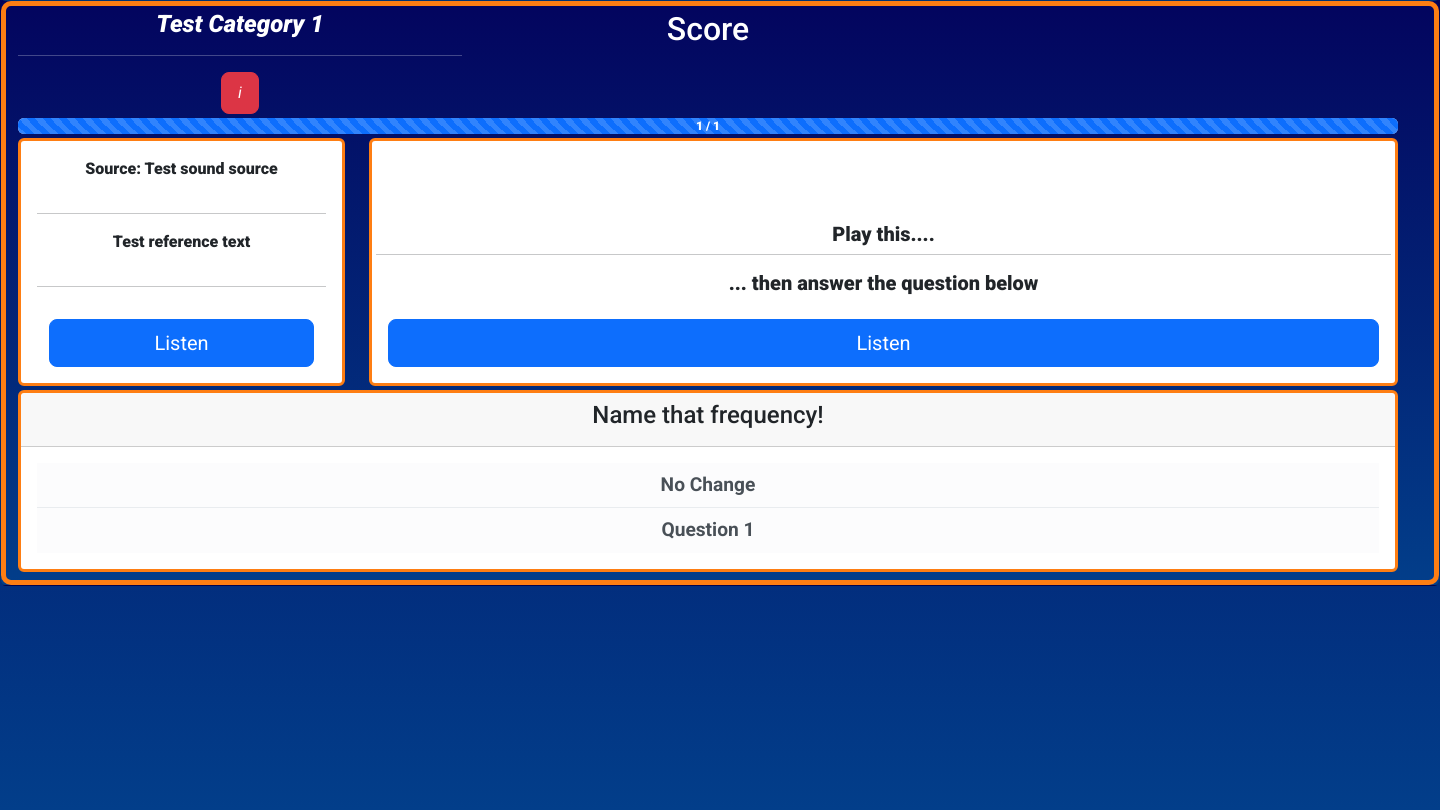
Test: Quiz Component › toggles quiz information modal
The image size is (1440, 810).
Step 1. Click the button "i" → (240, 93), box 221,72 -> 259,114
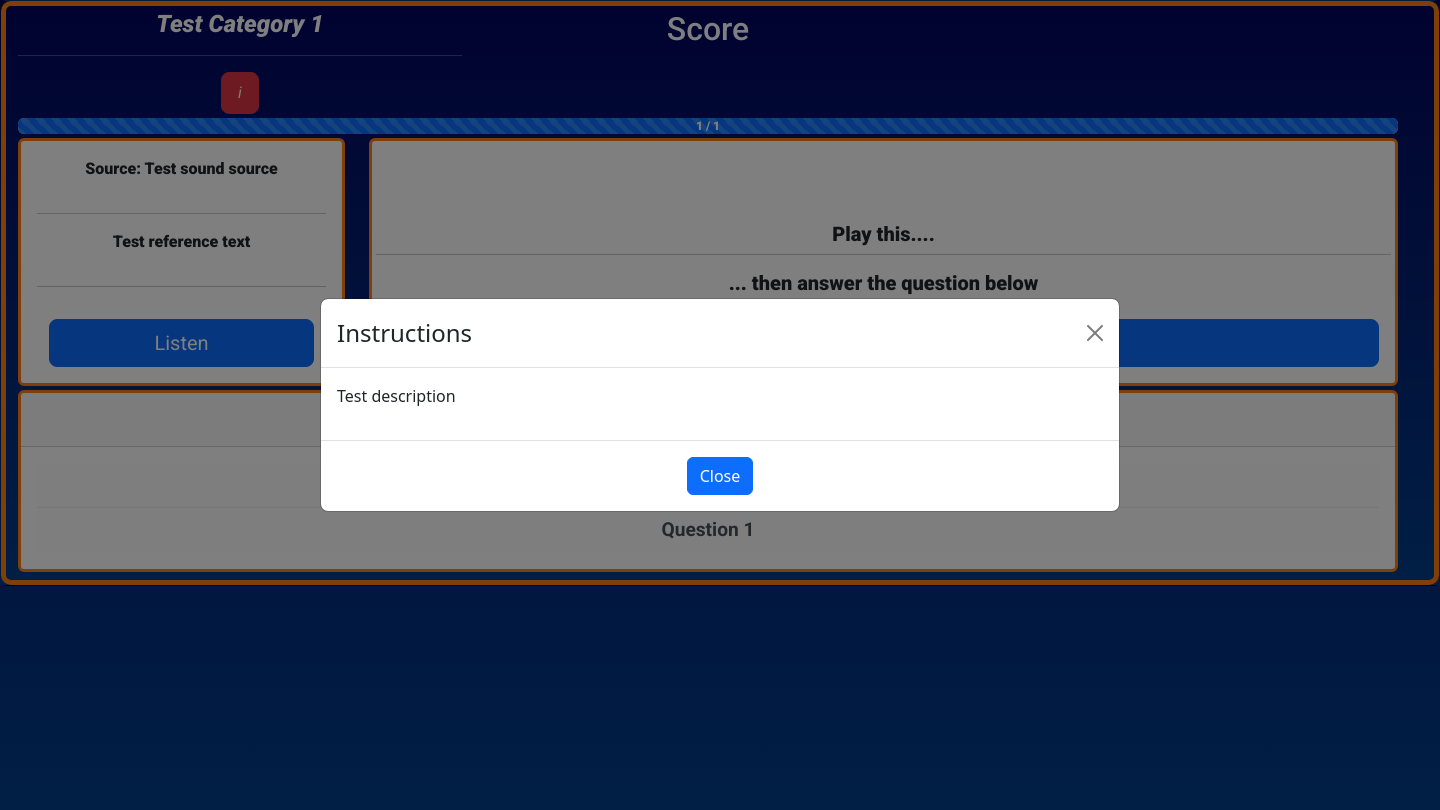
expect the text "Test description" is shown: met, box 337,385 -> 456,407
